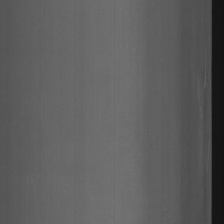silk_spot: (191, 50, 210, 144)
